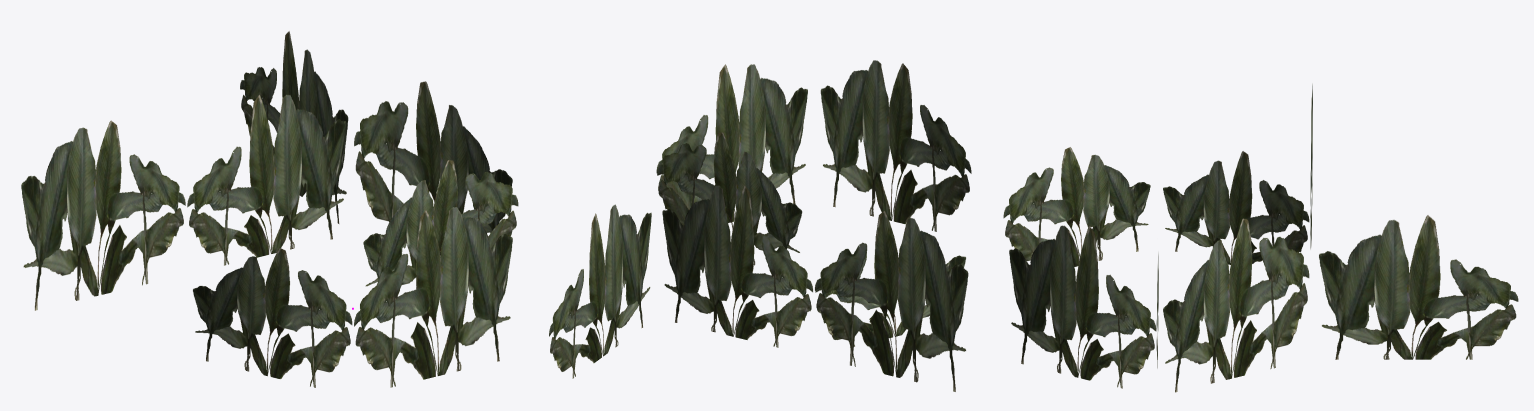
The model's file is mveg5d.glb.
The picture shows the model from 3 angles, left to right: view 1: azimuth 30°, elevation 25°; view 2: azimuth 150°, elevation 25°; view 3: azimuth 270°, elevation 25°; orthographic projection. The views are drawn at different scales.
Parts seen in each view (by area): view 1: 01 Mesh0; view 2: 01 Mesh0; view 3: 01 Mesh0.
Part boxes in pixels (bbox=[...]): 01 Mesh0: bbox=[21, 31, 518, 387]; 01 Mesh0: bbox=[549, 60, 971, 391]; 01 Mesh0: bbox=[1003, 84, 1518, 392].
Bounding box in the file's own units: 4.74 × 2.26 × 5.47.
2 materials, 1 textured.
